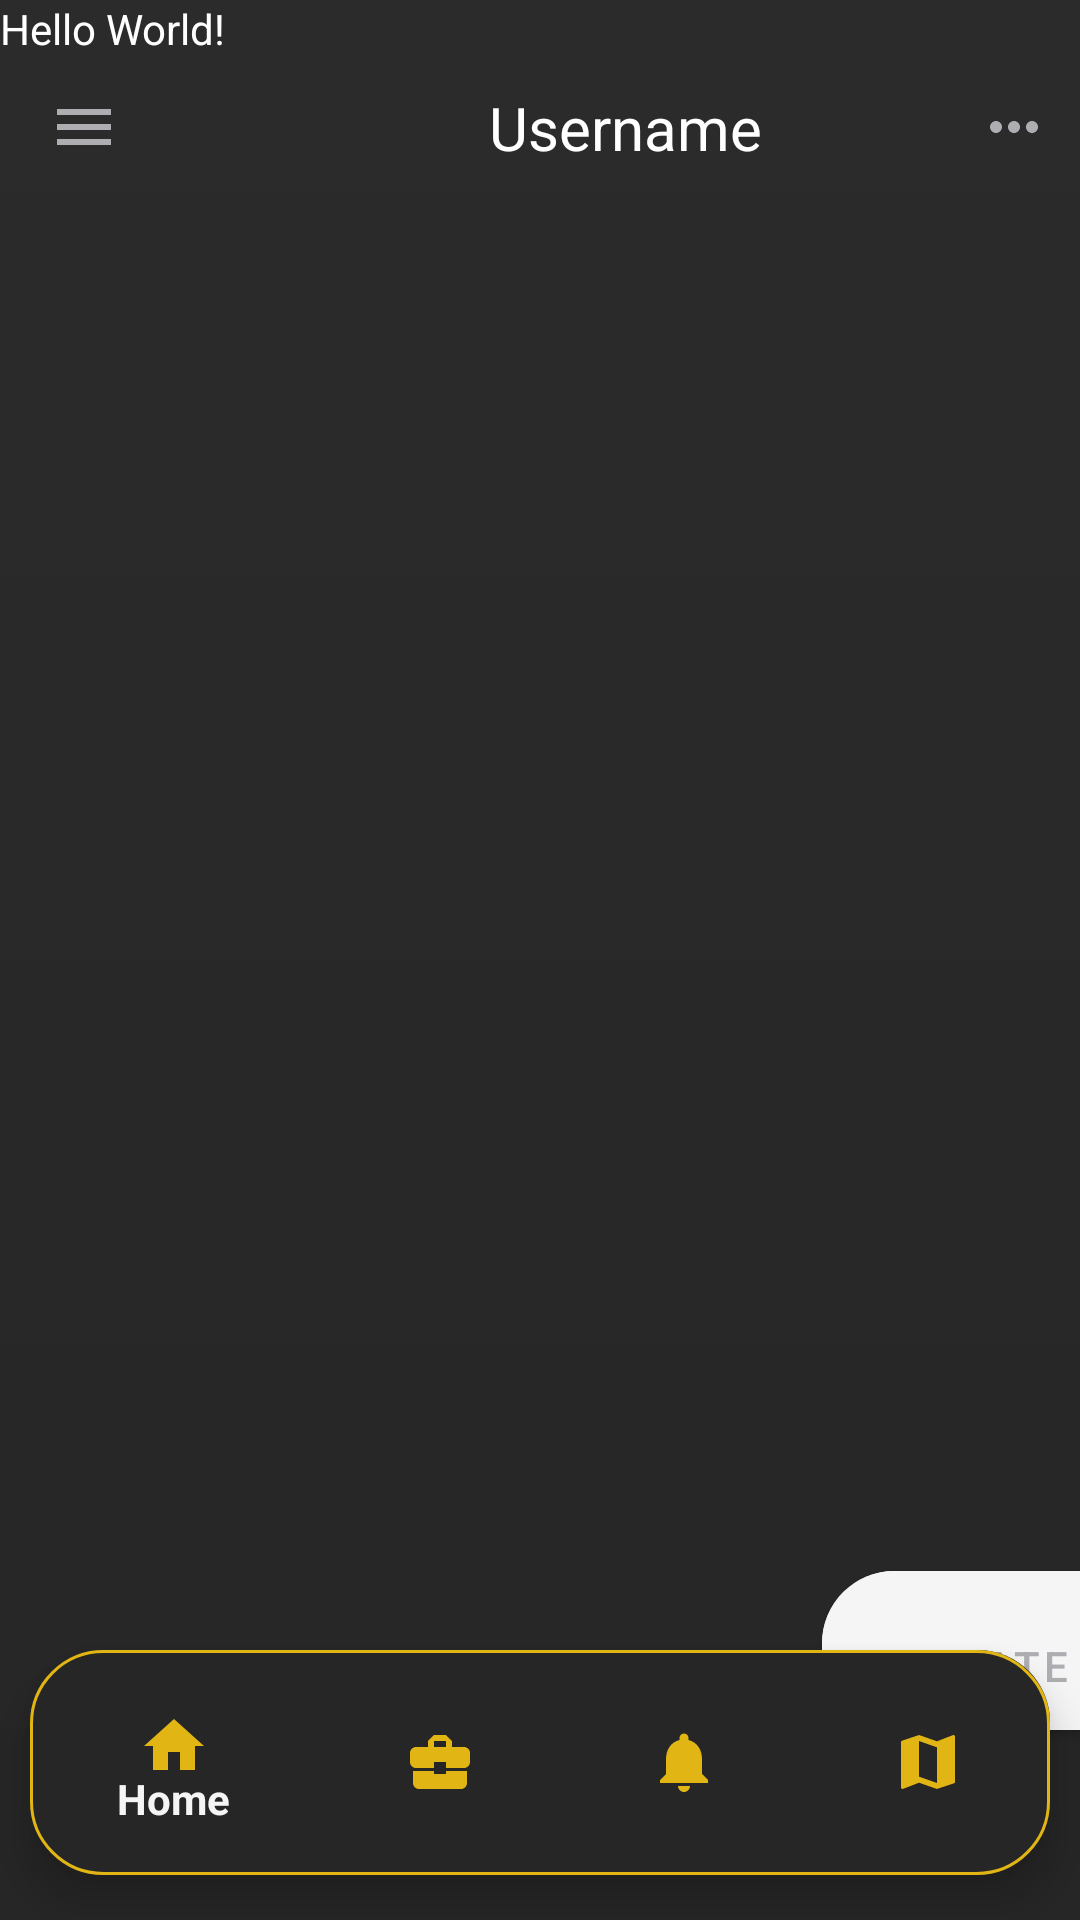

Icons on this 1080 × 1920 Android screen, each with the point to tap as point (x, y):
hamb: point (84, 127)
three dots: point (1014, 127)
